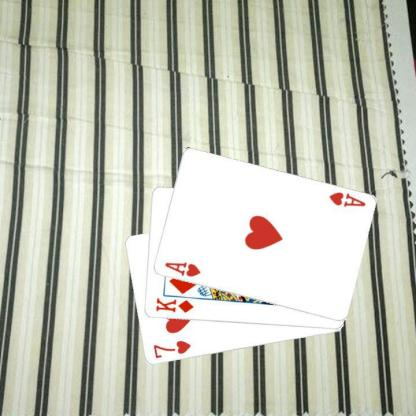7H: (150, 338, 192, 360)
AH: (326, 190, 366, 209), (162, 260, 202, 278)
KD: (152, 296, 194, 314)
